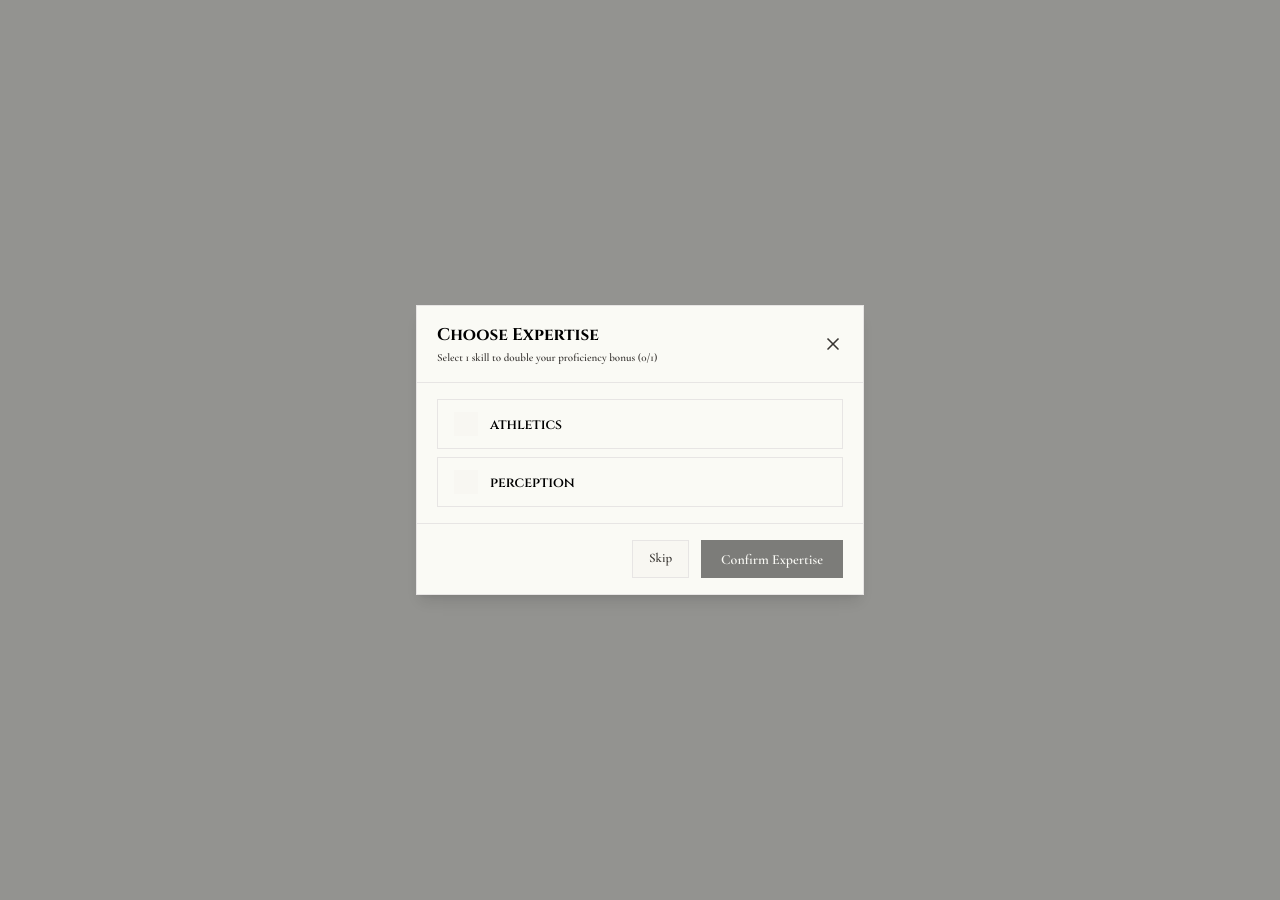
ExpertiseModal › enables confirm when correct count selected
The image size is (1280, 900).
Click the button "athletics": [526, 424] box [437,399,843,449]
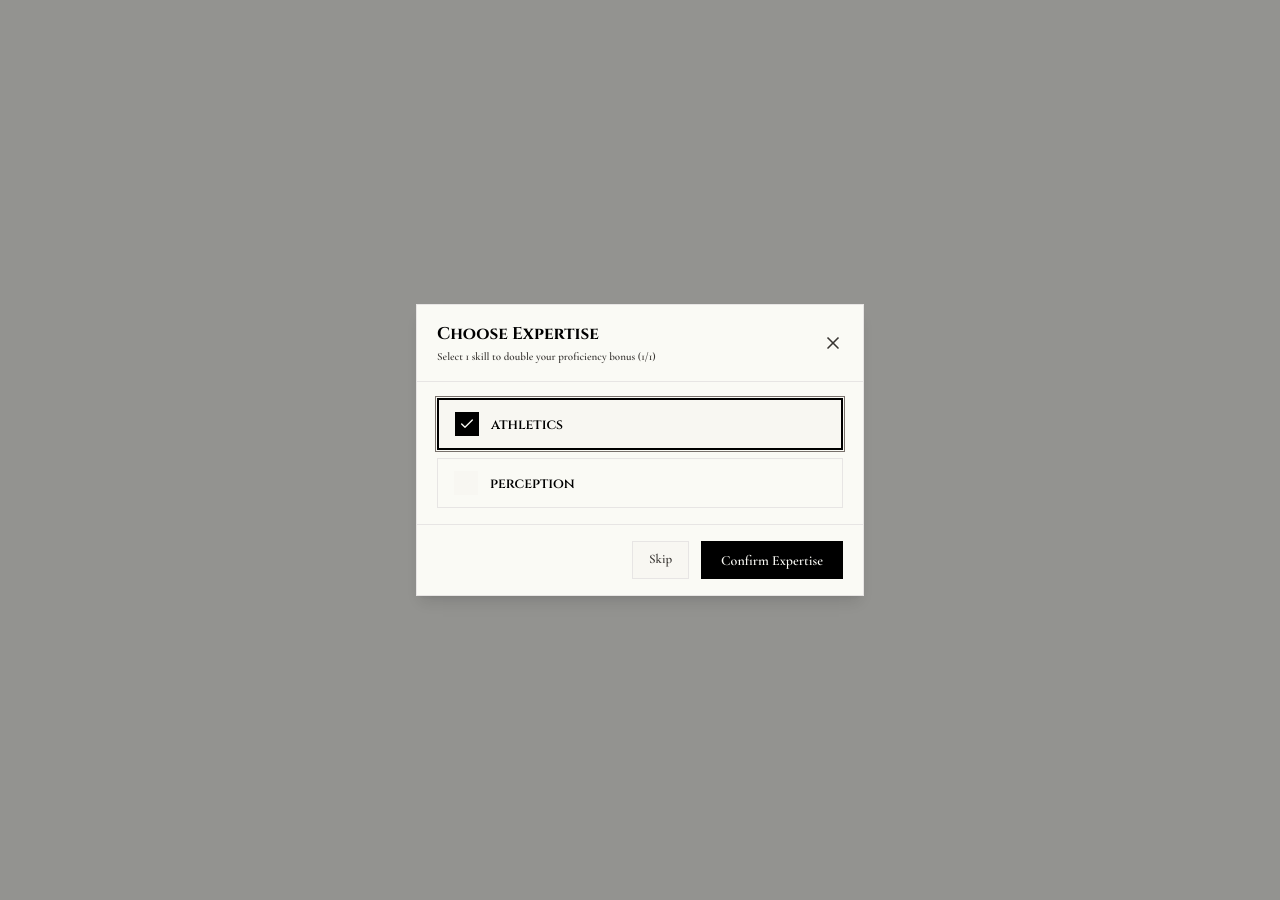
Now the button "Confirm Expertise" is enabled, box [701,541,843,579]
